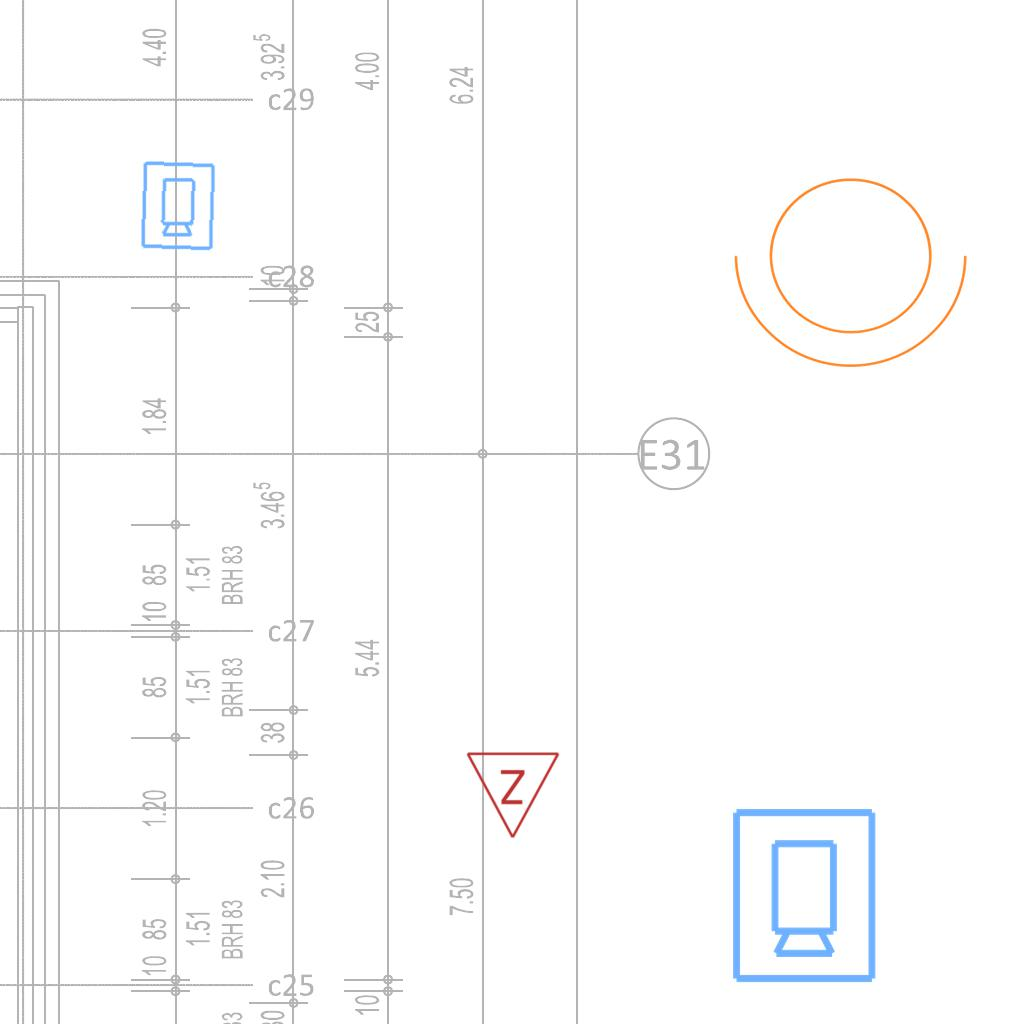KFO_Kamera_mit_Festobjektiv: (726, 804, 880, 986), (137, 158, 218, 253)
Scheinwerfer_fuer_Alarmbeleuchtung: (725, 153, 989, 378)
Zimmersignalleuchte: (465, 745, 563, 845)
